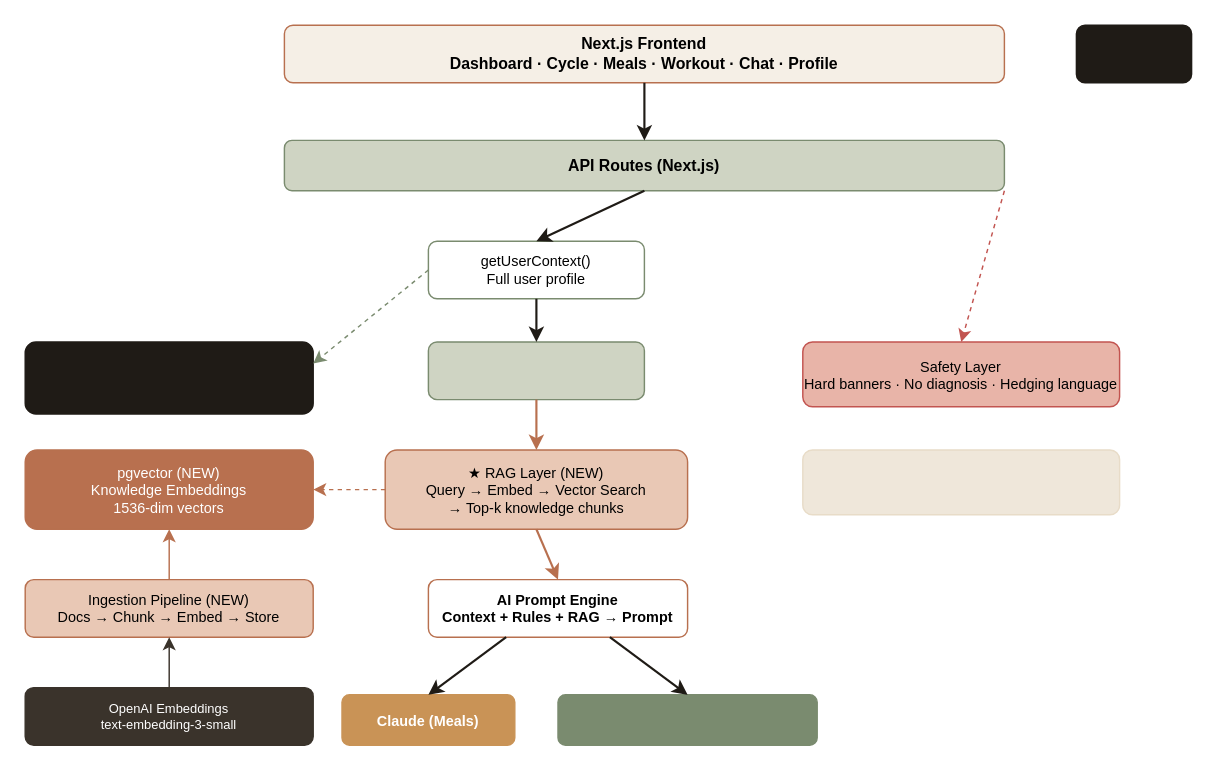
This 1217x770 diagram has some shape labels left out. Each missing label, with the centre of its shape:
Fallback Engines Cycle · Health · Nutrition · Workout: point 960,482
Groq/Llama (Chat + Workout): point 687,719
Personalization Rules 18 condition flags: point 535,370
Supabase (PostgreSQL + Auth + RLS) 13 user tables: point 168,377
Vercel: point 1133,53
